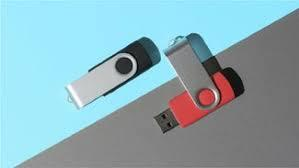Flash-drive: (147, 25, 255, 148), (58, 27, 171, 126)
